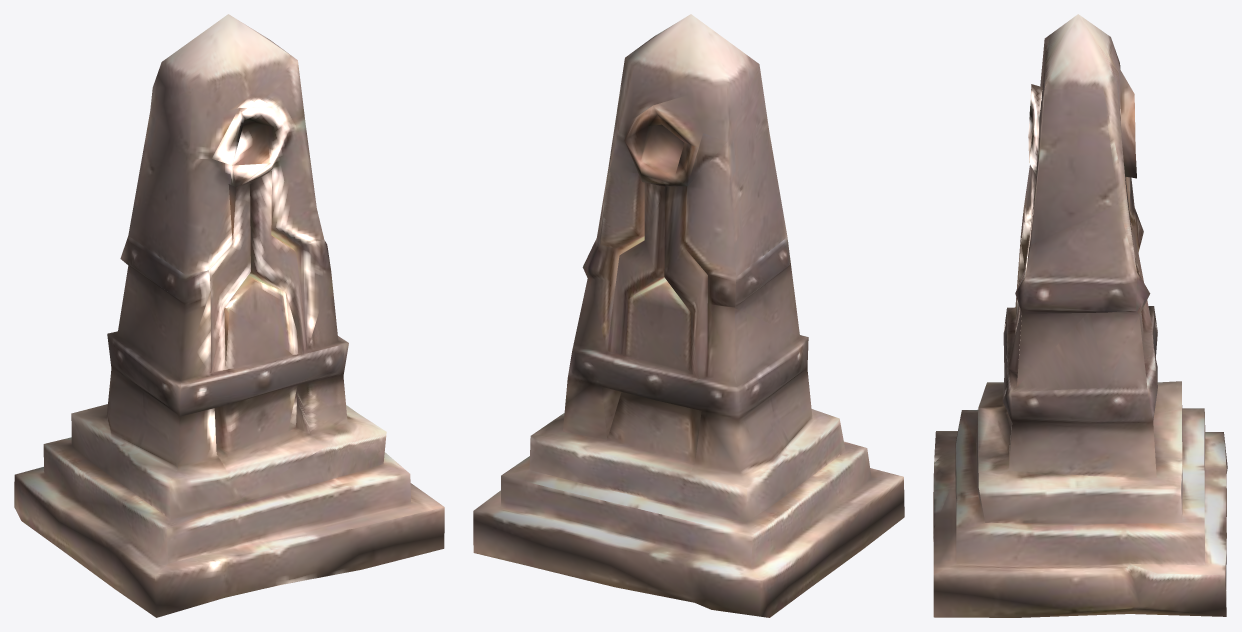
The model's file is approach_pylon.glb.
The picture shows the model from 3 angles, left to right: view 1: azimuth 30°, elevation 25°; view 2: azimuth 150°, elevation 25°; view 3: azimuth 270°, elevation 25°; orthographic projection. The views are drawn at different scales.
Parts seen in each view (by area): view 1: approach_pylon; view 2: approach_pylon; view 3: approach_pylon.
Boxes of the visible parts, x1=… form: approach_pylon: x1=14, y1=14, x2=444, y2=617; approach_pylon: x1=473, y1=14, x2=904, y2=617; approach_pylon: x1=933, y1=14, x2=1227, y2=617.
Bounding box in the file's own units: 1.39 × 2.4 × 1.2.
1 material, 1 textured.
